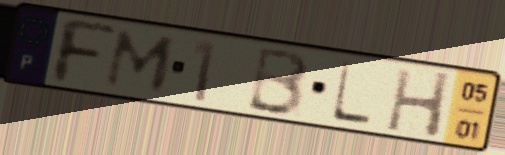1: (189, 38, 220, 105)
B: (243, 45, 312, 118)
F: (50, 14, 120, 88)
H: (383, 66, 455, 142)
L: (327, 57, 376, 129)
M: (100, 26, 181, 95)
